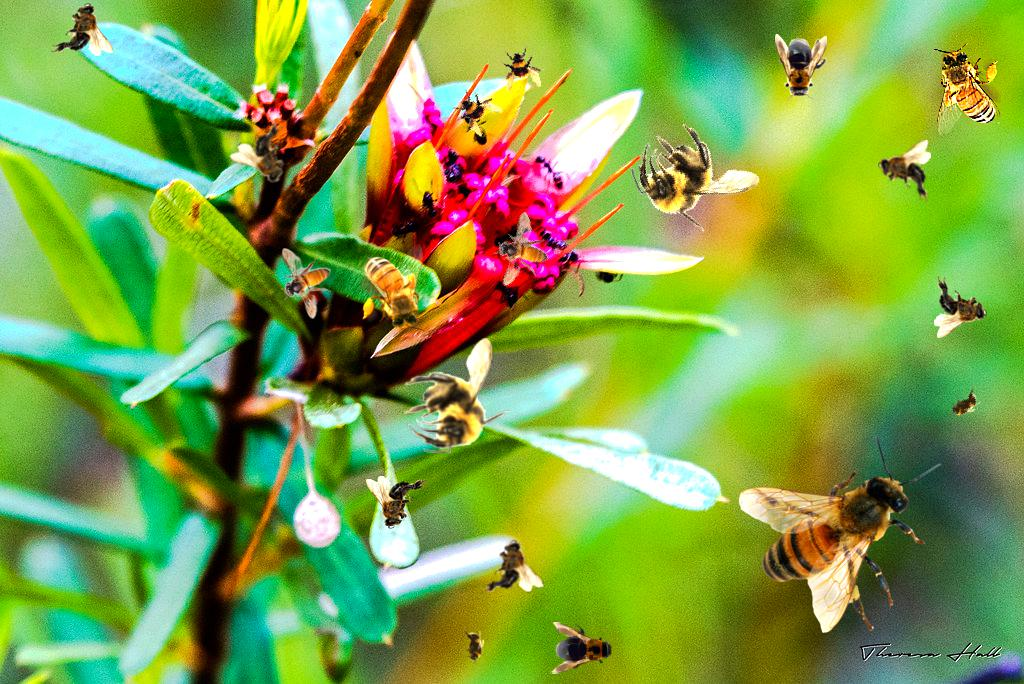Bee: (738, 434, 942, 633), (620, 103, 771, 250), (404, 338, 511, 453), (479, 210, 563, 297), (226, 117, 309, 197), (359, 244, 427, 337), (933, 43, 1001, 136), (476, 537, 545, 597), (446, 79, 508, 141), (281, 248, 331, 319), (550, 622, 618, 674), (775, 34, 827, 102), (51, 3, 113, 56), (934, 276, 987, 338), (366, 476, 428, 529), (878, 140, 931, 202), (495, 42, 549, 96), (941, 385, 987, 425), (463, 627, 485, 667)
